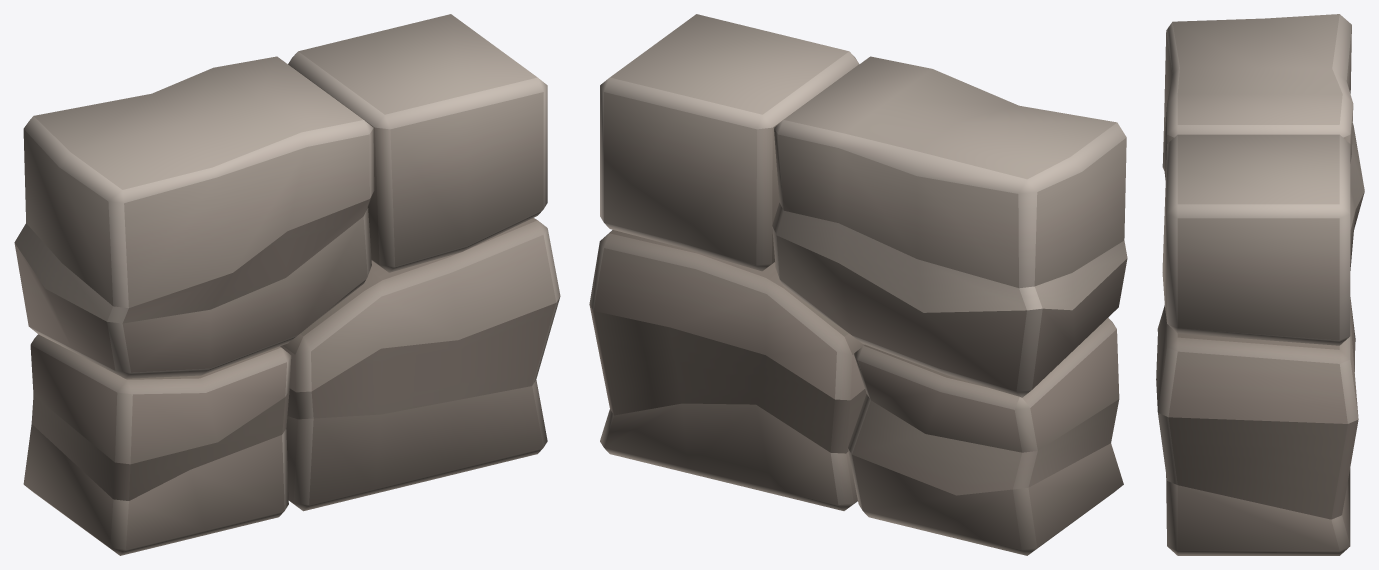
File: elf_stone_wall.fbx
3 renders of one model, left to right at view 1: azimuth 30°, elevation 25°; view 2: azimuth 150°, elevation 25°; view 3: azimuth 270°, elevation 25°, orthographic. The views are drawn at different scales.
Parts seen in each view (by area): view 1: elf_stone_wall; view 2: elf_stone_wall; view 3: elf_stone_wall.
Boxes of the visible parts, left/top/right/bottom form: elf_stone_wall: left=14, top=14, right=560, bottom=555; elf_stone_wall: left=589, top=14, right=1127, bottom=555; elf_stone_wall: left=1156, top=14, right=1364, bottom=555.
Size of the model in its own units: 314 by 251 by 134.
